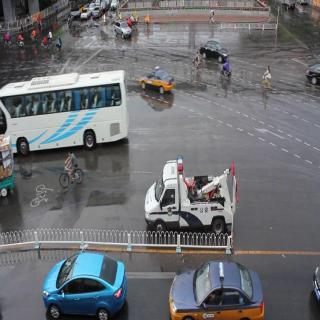BigCar: (0, 72, 134, 150)
Car: (140, 153, 244, 243), (40, 240, 135, 320), (159, 262, 271, 318), (134, 62, 179, 110), (196, 32, 228, 71), (107, 18, 132, 40), (93, 5, 102, 25), (80, 7, 90, 23)
